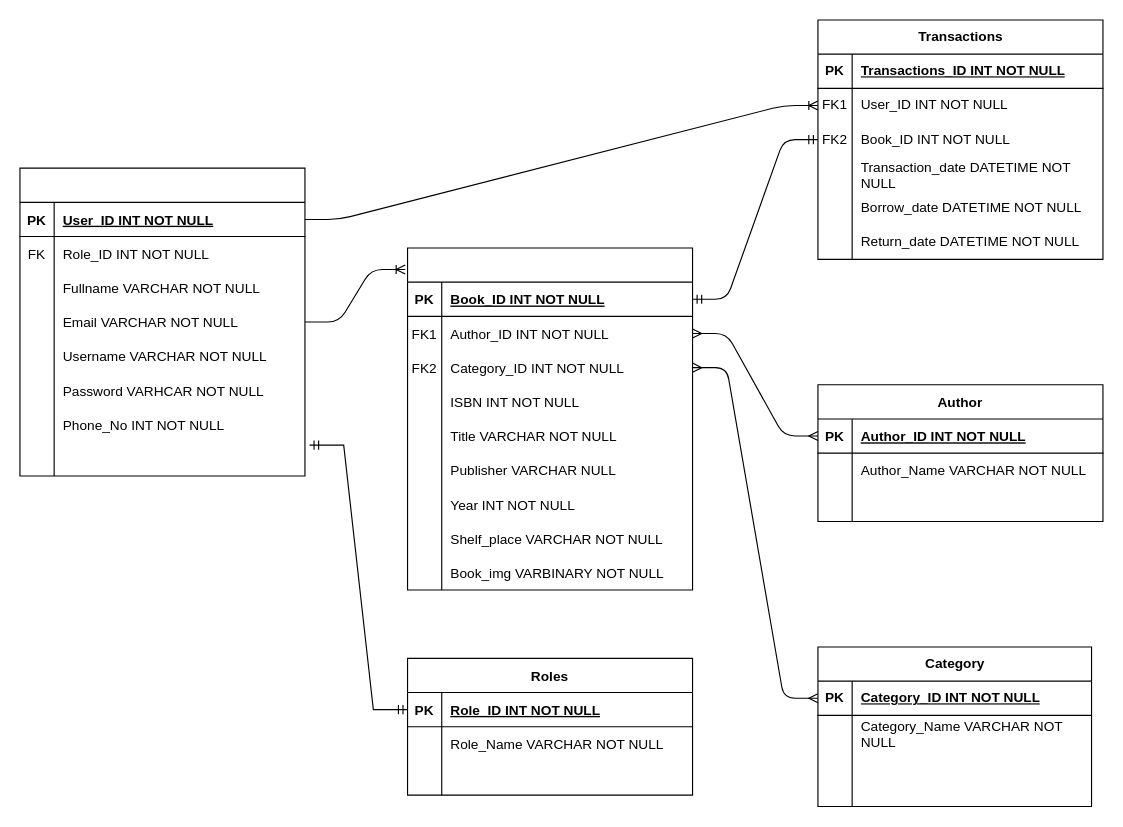
Some shapes in this 1123 by 827 pixel diagram are drawn without their labels. The box of each missing label's shape, as (x1, y1, x2, y2) in pixels:
Books: (406, 247, 693, 590)
Users: (19, 167, 305, 476)
